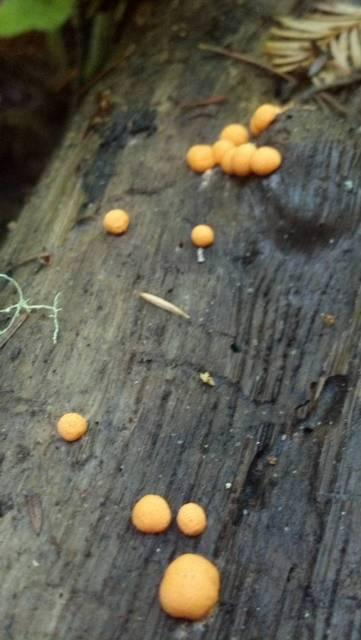Non-edible Mushroom: (184, 102, 284, 178), (157, 552, 221, 621), (130, 493, 171, 534), (175, 501, 207, 536), (250, 144, 282, 176), (55, 411, 88, 442), (189, 223, 214, 262), (185, 143, 214, 173), (102, 207, 129, 235)
